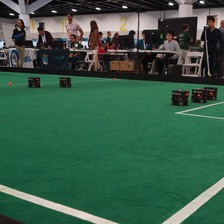ball: (6, 79, 12, 86), (112, 75, 118, 81)
robot: (168, 87, 191, 107), (190, 86, 208, 104), (57, 74, 73, 89), (24, 74, 40, 87), (206, 85, 218, 101)
